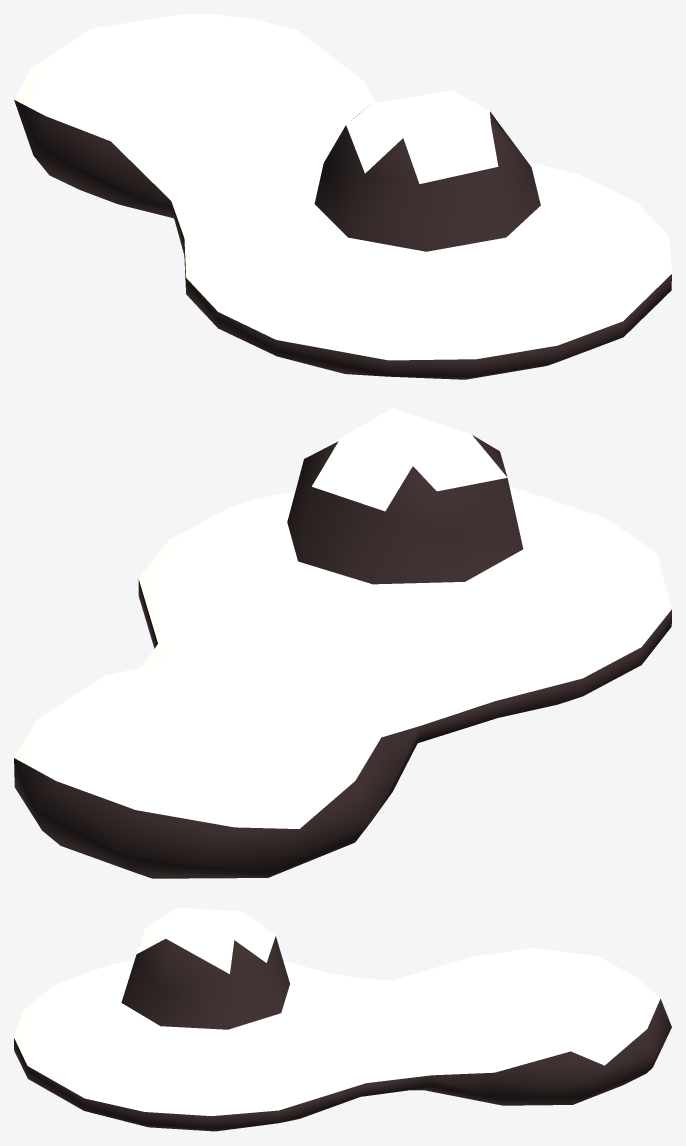
Rendered from puddle_01a.glb.
3 renders of one model, top to bottom at view 1: azimuth 30°, elevation 25°; view 2: azimuth 150°, elevation 25°; view 3: azimuth 270°, elevation 25°, orthographic. The views are drawn at different scales.
Parts seen in each view (by area): view 1: EA_Puddle_01a; view 2: EA_Puddle_01a; view 3: EA_Puddle_01a.
Boxes of the visible parts, x1=… form: EA_Puddle_01a: x1=14, y1=14, x2=671, y2=379; EA_Puddle_01a: x1=14, y1=408, x2=671, y2=878; EA_Puddle_01a: x1=14, y1=907, x2=671, y2=1131.
Size of the model in its own units: 3.45 by 1.65 by 5.92.
